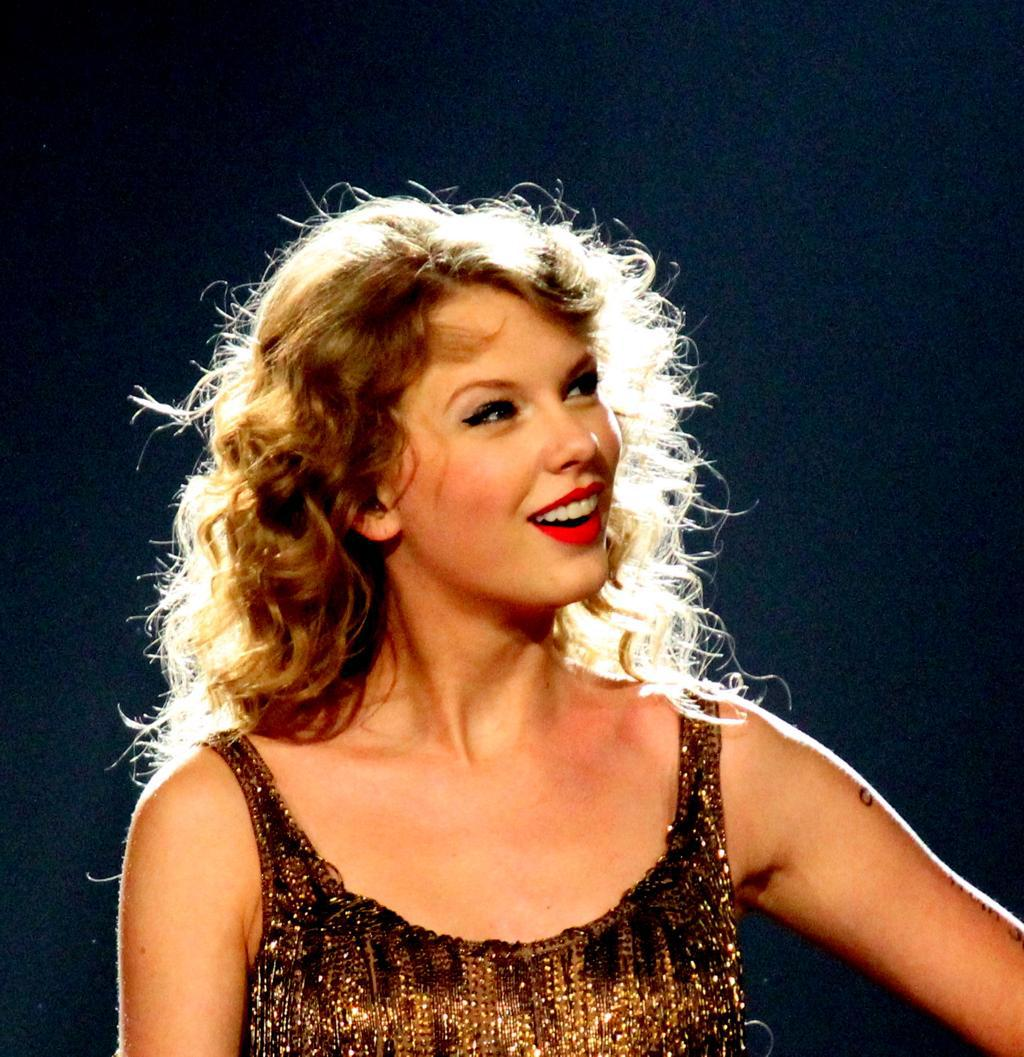face: (393, 292, 622, 602)
